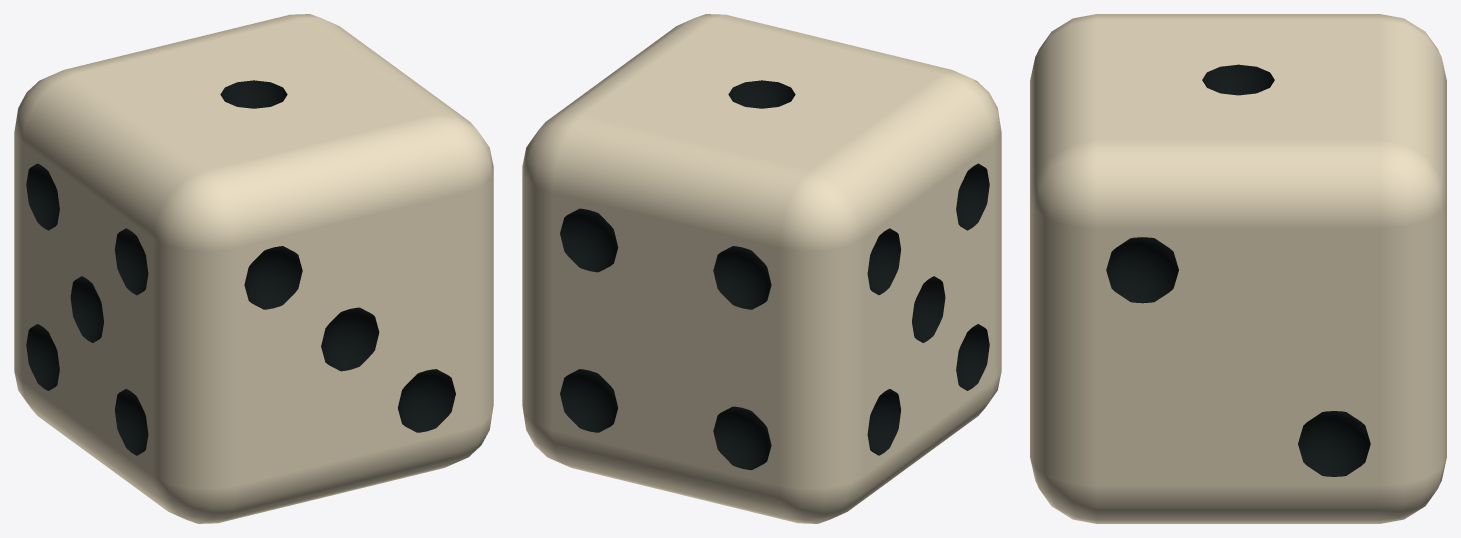
Rendered from bone_d6.glb.
3 views of the same model, side by side, from view 1: azimuth 30°, elevation 25°; view 2: azimuth 150°, elevation 25°; view 3: azimuth 270°, elevation 25° (orthographic). The views are drawn at different scales.
Parts seen in each view (by area): view 1: BoneD6; view 2: BoneD6; view 3: BoneD6.
Part boxes in pixels (x1=…): BoneD6: x1=14, y1=14, x2=493, y2=523; BoneD6: x1=522, y1=14, x2=1001, y2=523; BoneD6: x1=1030, y1=14, x2=1446, y2=523.
Bounding box in the file's own units: 0.08 × 0.08 × 0.08.
